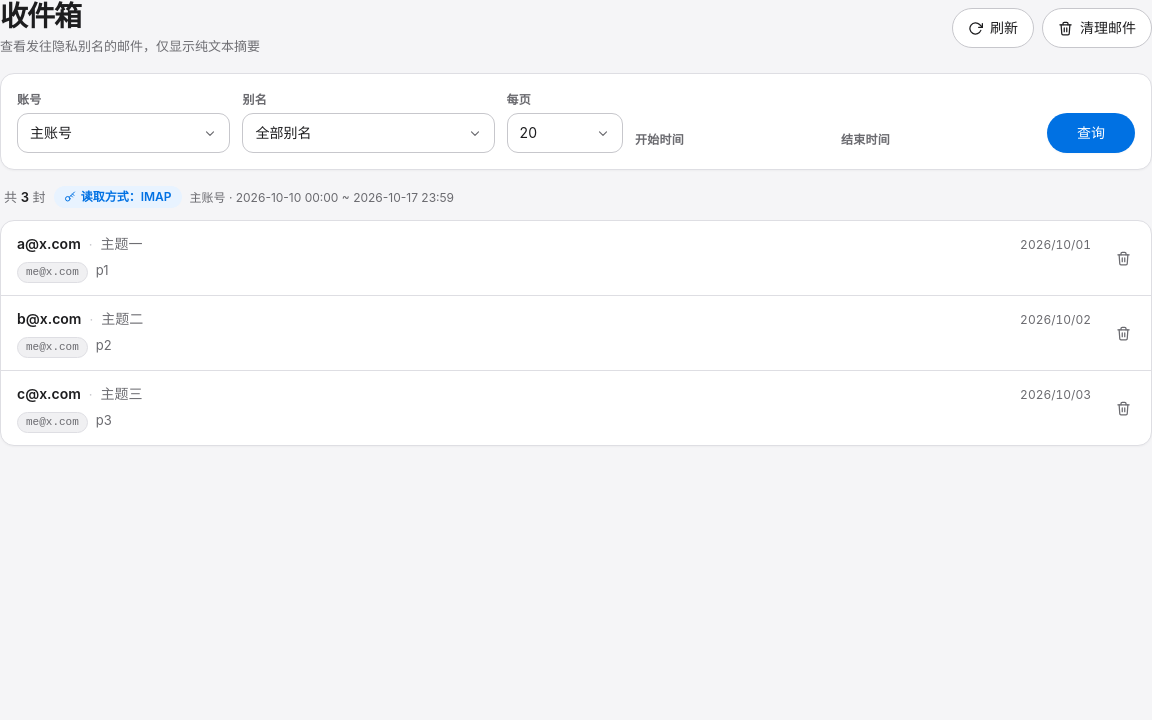
Test: InboxPage 批量清理 › 点预设 → 显示统计(截止日 + 总数/文件夹明细)
This screenshot has width=1152, height=720.
Expected: the text "主题一" is shown, [100, 233, 142, 256]
Click the button "清理邮件" at [1097, 28], box [1042, 8, 1151, 48]
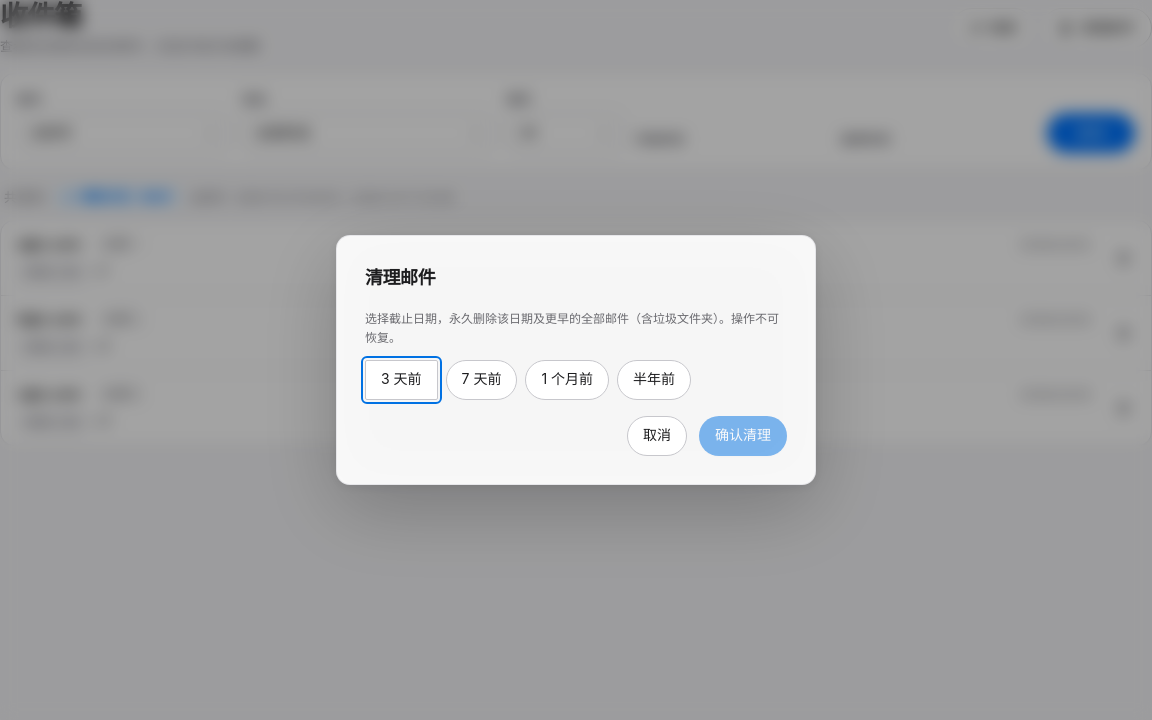
Click the button "7 天前" at [482, 380], box [446, 360, 518, 400]
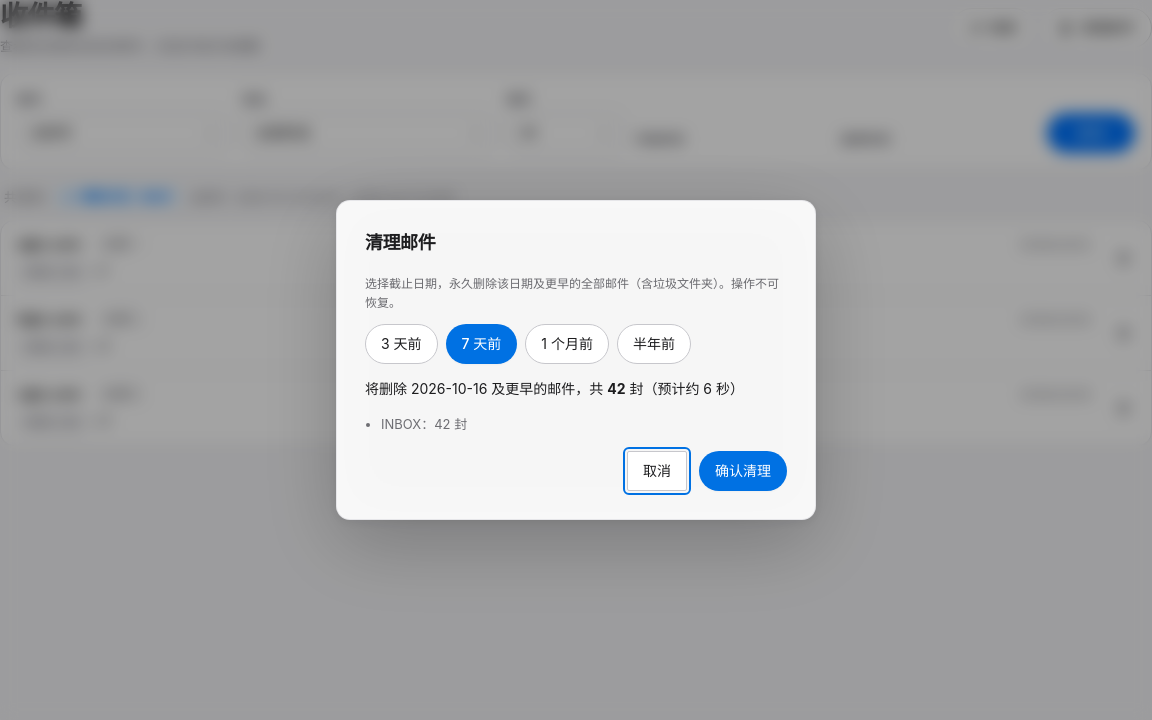
Expected: the text "将删除 2026-10-16 及更早的邮件，共 42 封（预计约 6 秒）" is shown, [365, 378, 787, 400]
Expected: the text "42" is shown, [607, 380, 626, 397]
Expected: the list item "INBOX：42 封" is shown, [381, 416, 467, 432]
